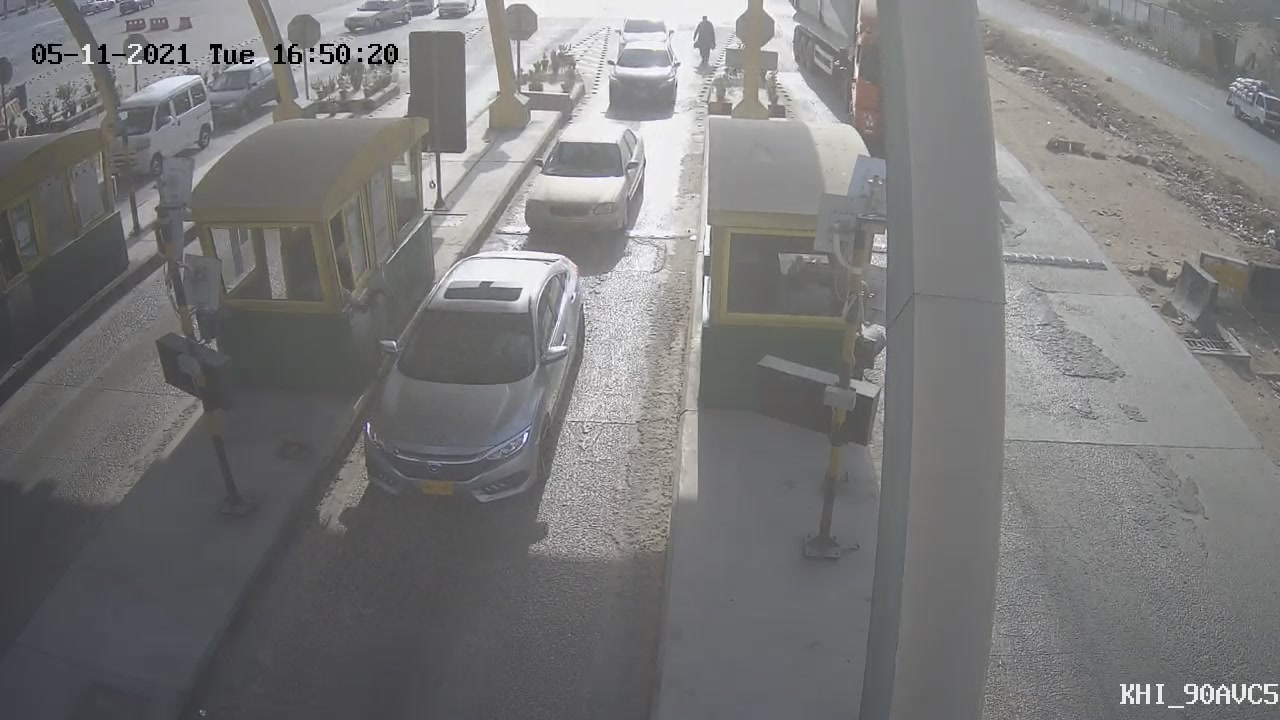F1: (320, 233, 605, 538), (513, 99, 668, 259)
